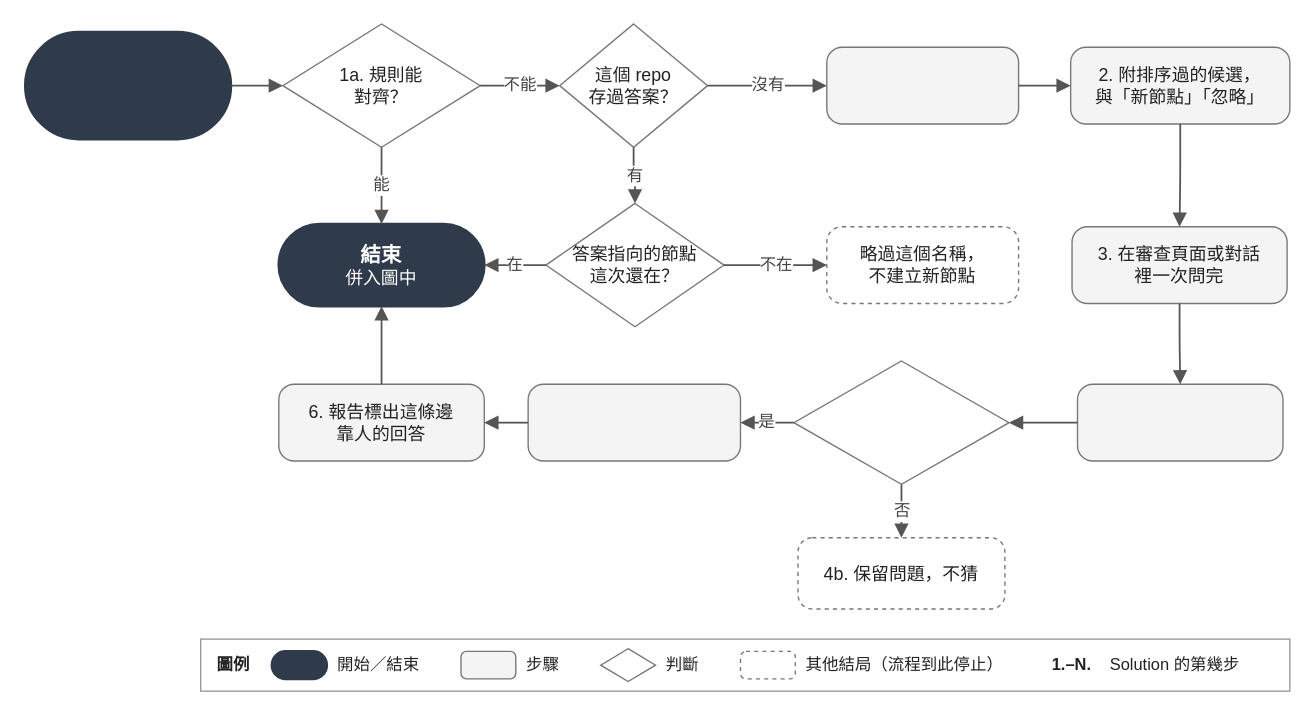
The diagram is 1314 pixels wide and 715 high, and some of its shapes have lost their labels. The box of each missing label's shape, as (x1, y1, x2, y2) in pixels:
1b. 記成問題， 不默默丟掉: (825, 46, 1019, 124)
4a. 以確定性的 規則解析答案: (1076, 383, 1283, 461)
5. 套用，並以 repo 為單位存下答案: (527, 383, 740, 461)
看得懂且指向 存在的節點？: (793, 360, 1009, 484)
開始 合併時遇到 的一個名稱: (23, 30, 232, 140)
